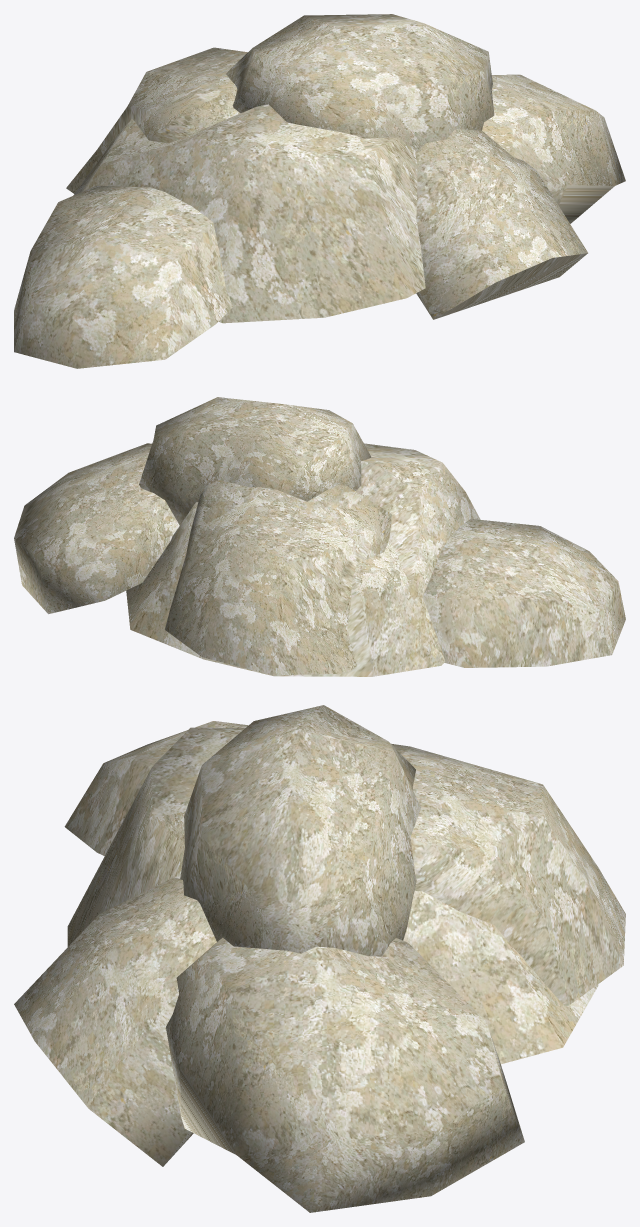
File: rock_formation_a1_l1.fbx
The picture shows the model from 3 angles, top to bottom: view 1: azimuth 30°, elevation 25°; view 2: azimuth 150°, elevation 25°; view 3: azimuth 270°, elevation 25°; orthographic projection. The views are drawn at different scales.
Visible parts, largest first — view 1: mesh_node; view 2: mesh_node; view 3: mesh_node.
Part boxes in pixels (x1,y1,x2,y2): mesh_node: (14, 14, 625, 368); mesh_node: (14, 397, 625, 676); mesh_node: (14, 705, 625, 1212).
Bounding box in the file's own units: 14.03 × 5.28 × 8.91.
